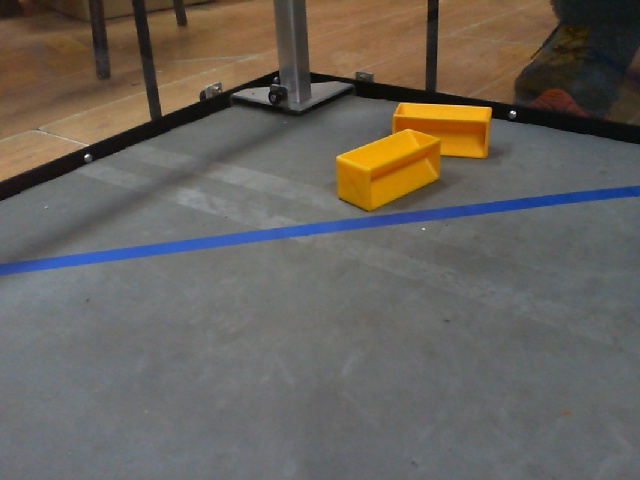YellowSample: (329, 129, 447, 213), (389, 100, 495, 165)
